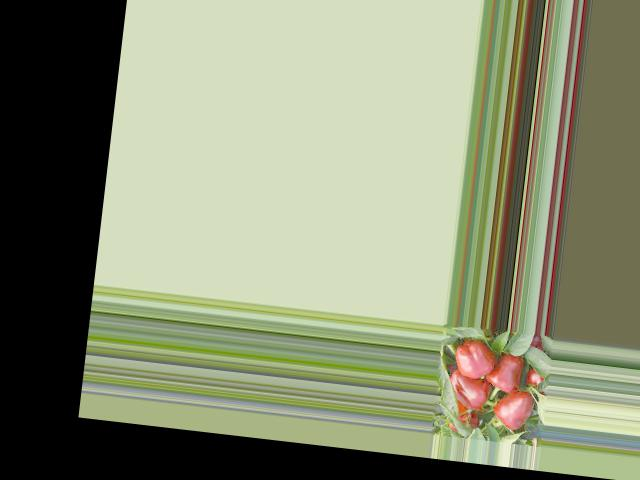bell_pepper: (449, 338, 506, 382)
